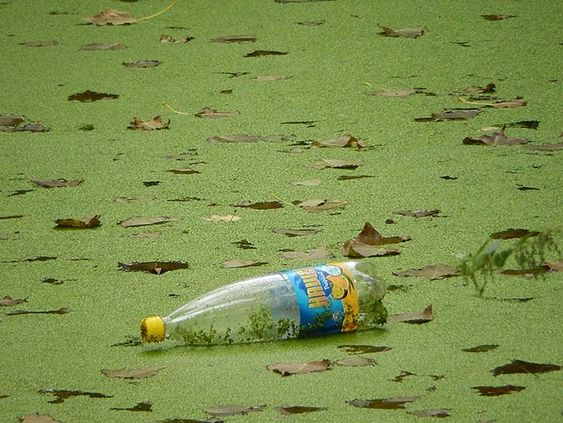Metal: (136, 311, 171, 351)
paper: (166, 255, 393, 351)
